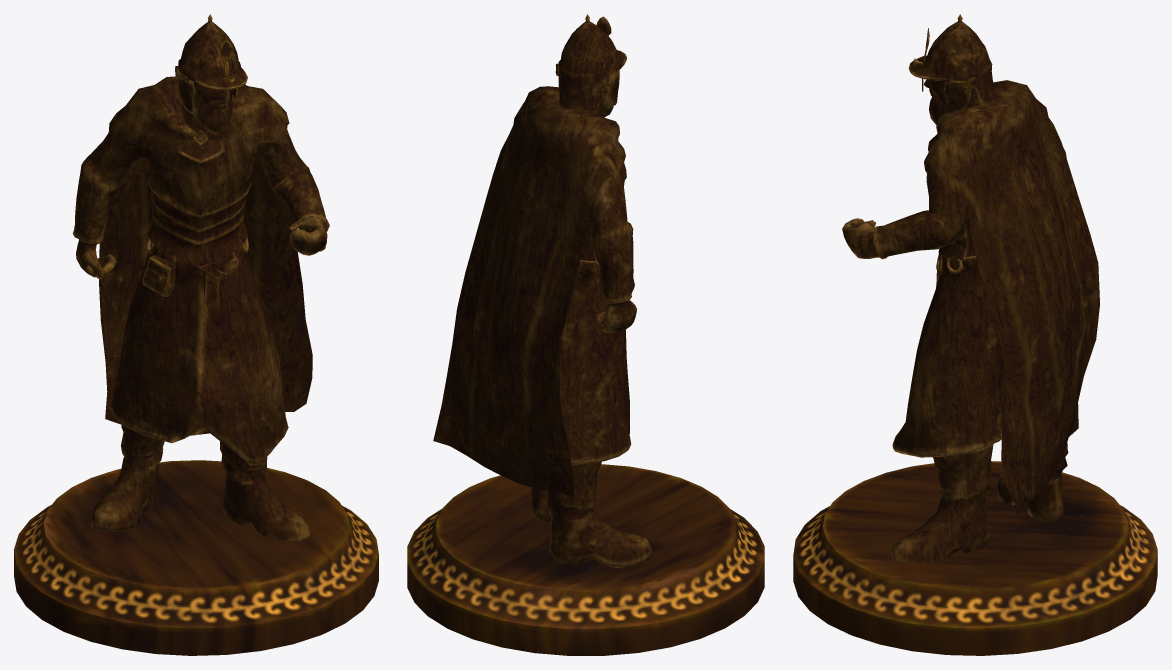
Rendered from Figurka_guard.fbx.
The picture shows the model from 3 angles, left to right: view 1: azimuth 30°, elevation 25°; view 2: azimuth 150°, elevation 25°; view 3: azimuth 270°, elevation 25°; orthographic projection.
Parts seen in each view (by area): view 1: Figurka_guard; view 2: Figurka_guard; view 3: Figurka_guard.
Boxes of the visible parts, <box> form: Figurka_guard: <box>14,14,378,655</box>; Figurka_guard: <box>407,14,764,655</box>; Figurka_guard: <box>793,14,1157,655</box>.
Size of the model in its own units: 0.3041 by 0.5236 by 0.3041.
Materials: 1 (1 with a texture image).
